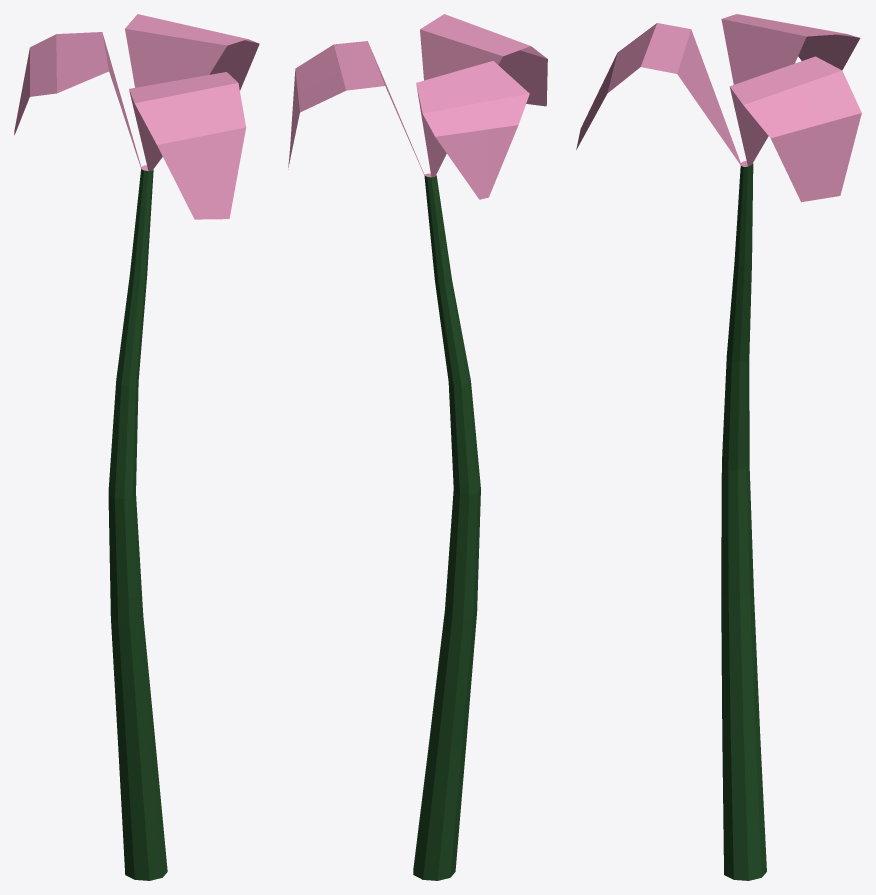
File: Plant_3a.fbx
3 views of the same model, side by side, from view 1: azimuth 30°, elevation 25°; view 2: azimuth 150°, elevation 25°; view 3: azimuth 270°, elevation 25° (orthographic).
Visible parts, largest first — view 1: Circle; view 2: Circle; view 3: Circle.
Part boxes in pixels (x1,y1,x2,y2): Circle: (14, 14, 259, 880); Circle: (288, 14, 547, 880); Circle: (576, 14, 861, 880).
Size of the model in its own units: 22.62 by 77.99 by 24.37.
